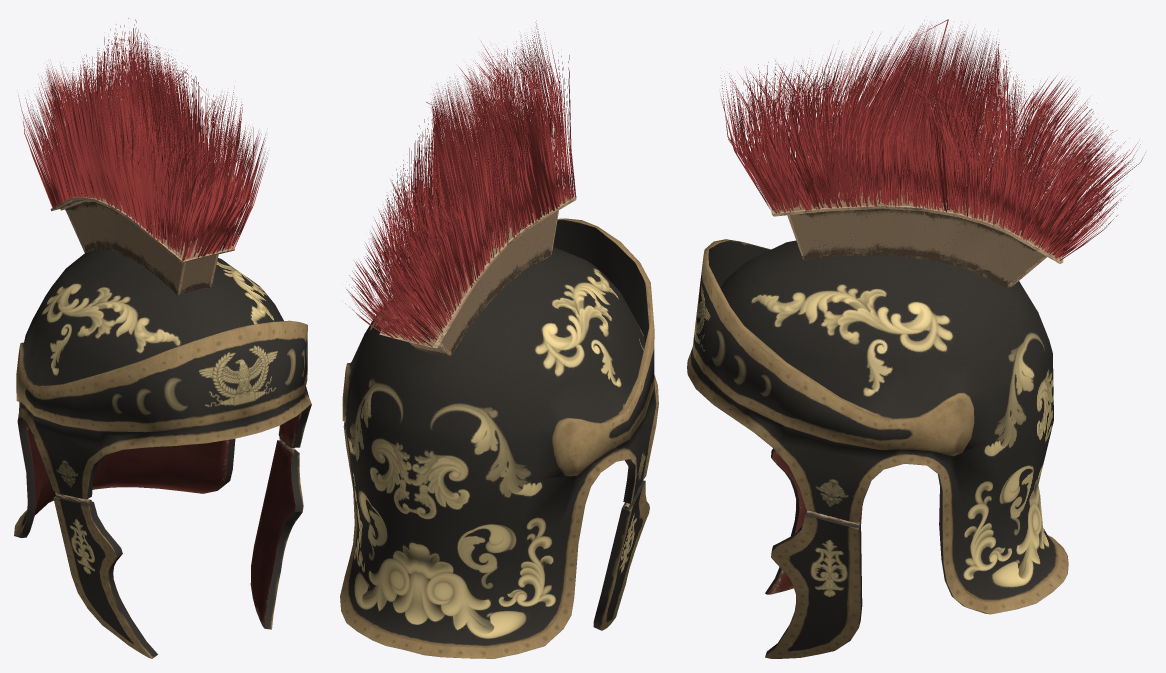
The picture shows the model from 3 angles, left to right: view 1: azimuth 30°, elevation 25°; view 2: azimuth 150°, elevation 25°; view 3: azimuth 270°, elevation 25°; orthographic projection. The views are drawn at different scales.
Visible parts, largest first — view 1: Helmet2Retopo, defaultMaterial; view 2: Helmet2Retopo, defaultMaterial; view 3: Helmet2Retopo, defaultMaterial.
Part boxes in pixels (x1,y1,x2,y2): Helmet2Retopo: (14, 194, 311, 658); defaultMaterial: (18, 18, 267, 261); Helmet2Retopo: (340, 195, 658, 658); defaultMaterial: (345, 22, 576, 347); Helmet2Retopo: (687, 182, 1068, 658); defaultMaterial: (720, 19, 1145, 260).
Bounding box in the file's own units: 1.33 × 2.82 × 1.93.
2 materials, 2 textured.
